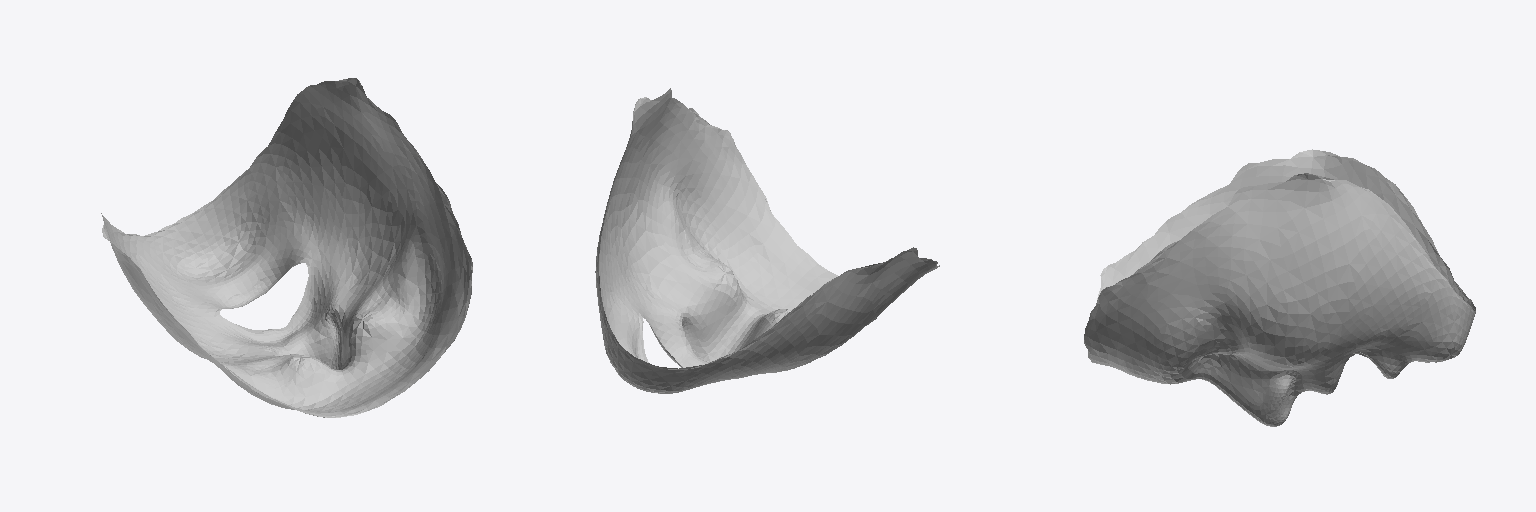
Rendered from face_gab_sfm81.obj.
The picture shows the model from 3 angles: view 1: azimuth 30°, elevation 25°; view 2: azimuth 150°, elevation 25°; view 3: azimuth 270°, elevation 25°; orthographic projection.
Bounding box in the file's own units: 166 × 162 × 207.